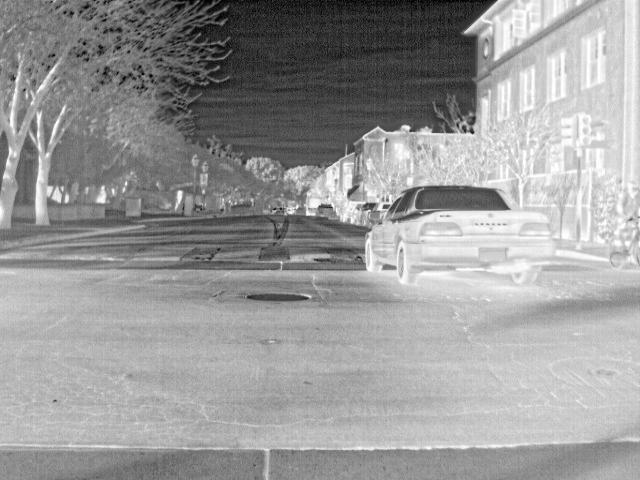car: (365, 184, 555, 286), (357, 201, 375, 227), (373, 201, 393, 223), (317, 200, 338, 218), (345, 200, 360, 225)
person: (614, 177, 639, 227)
